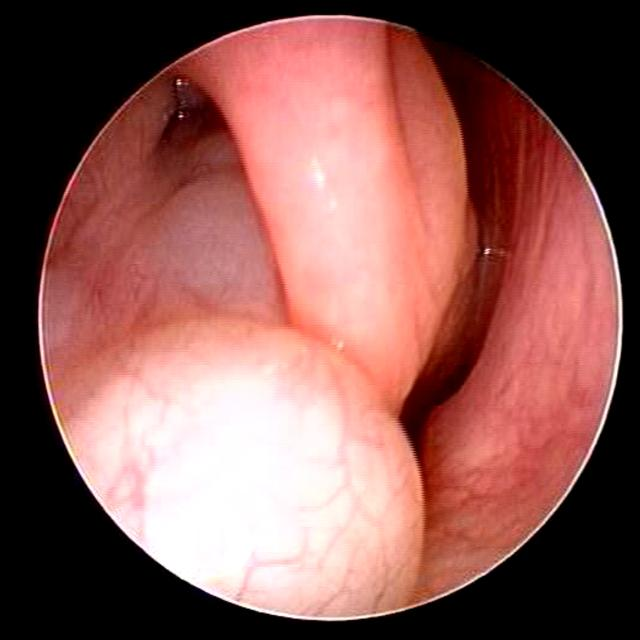OPENING: (142, 76, 244, 187)
POLYPS: (70, 308, 434, 623), (88, 173, 290, 364)
